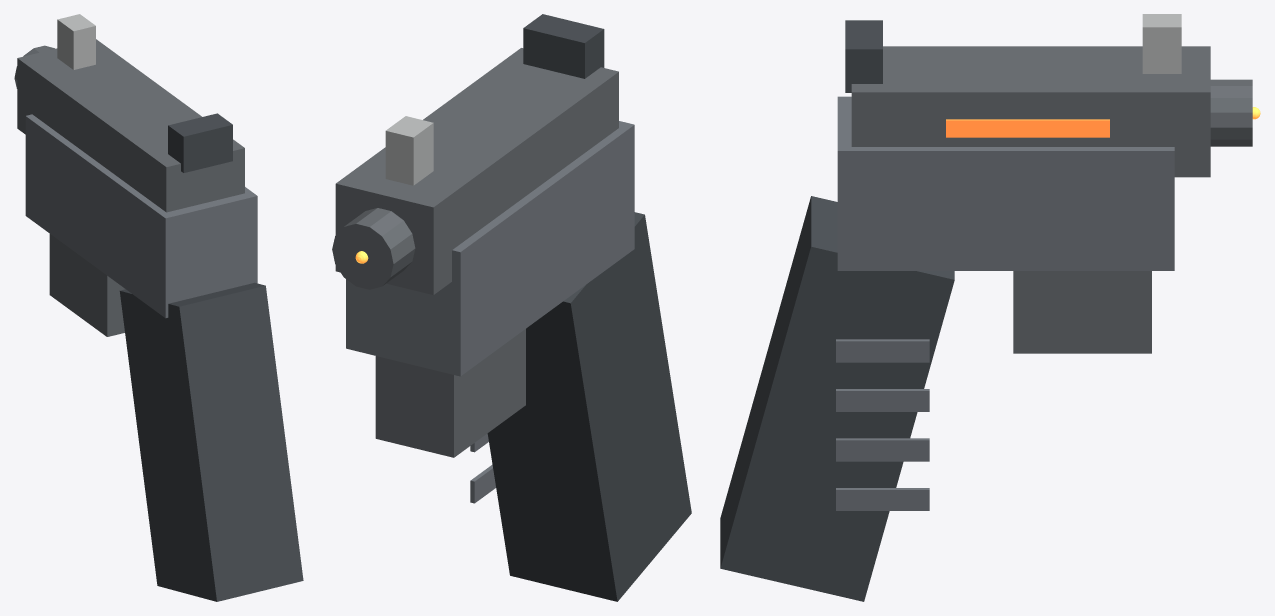
Rendered from raven_pistol.glb.
3 views of the same model, side by side, from view 1: azimuth 30°, elevation 25°; view 2: azimuth 150°, elevation 25°; view 3: azimuth 270°, elevation 25° (orthographic). The views are drawn at different scales.
Parts seen in each view (by area): view 1: grip_3, pistol_frame_2, machined_slide_1, trigger_guard_9, rear_sight_11, front_sight_10; view 2: grip_3, pistol_frame_2, machined_slide_1, trigger_guard_9, pistol_barrel_8, rear_sight_11, front_sight_10, grip_texture_7; view 3: grip_3, pistol_frame_2, machined_slide_1, trigger_guard_9, slide_orange_line_12, pistol_barrel_8, rear_sight_11, front_sight_10, grip_texture_4, grip_texture_6, grip_texture_5, grip_texture_7.
Boxes of the visible parts, <box> form: grip_3: <box>119,282,303,601</box>; pistol_frame_2: <box>25,114,257,318</box>; machined_slide_1: <box>17,39,244,212</box>; trigger_guard_9: <box>49,234,125,336</box>; rear_sight_11: <box>168,113,232,172</box>; front_sight_10: <box>57,14,95,69</box>; grip_3: <box>487,212,691,601</box>; pistol_frame_2: <box>346,121,634,376</box>; machined_slide_1: <box>335,48,618,294</box>; trigger_guard_9: <box>375,329,525,457</box>; pistol_barrel_8: <box>332,208,415,289</box>; rear_sight_11: <box>523,14,604,78</box>; front_sight_10: <box>385,116,433,185</box>; grip_texture_7: <box>470,464,495,503</box>; grip_3: <box>720,196,954,601</box>; pistol_frame_2: <box>837,96,1174,270</box>; machined_slide_1: <box>851,46,1210,177</box>; trigger_guard_9: <box>1013,271,1151,353</box>; slide_orange_line_12: <box>946,119,1109,137</box>; pistol_barrel_8: <box>1210,79,1252,146</box>; rear_sight_11: <box>845,20,882,92</box>; front_sight_10: <box>1142,14,1181,73</box>; grip_texture_4: <box>836,339,929,362</box>; grip_texture_6: <box>836,438,929,461</box>; grip_texture_5: <box>836,389,929,411</box>; grip_texture_7: <box>836,488,929,510</box>.
Size of the model in its own units: 0.0835 by 0.3931 by 0.3461.
